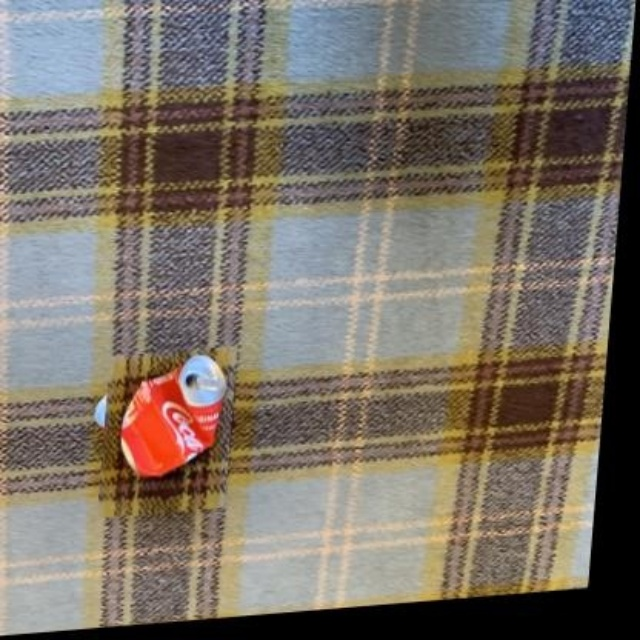trash: (122, 355, 225, 475)
